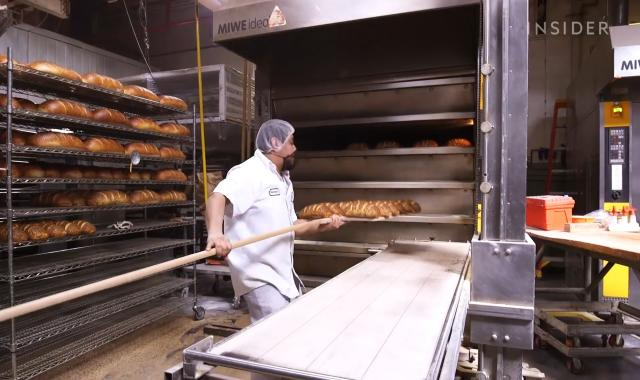hairnet: (256, 118, 294, 154)
